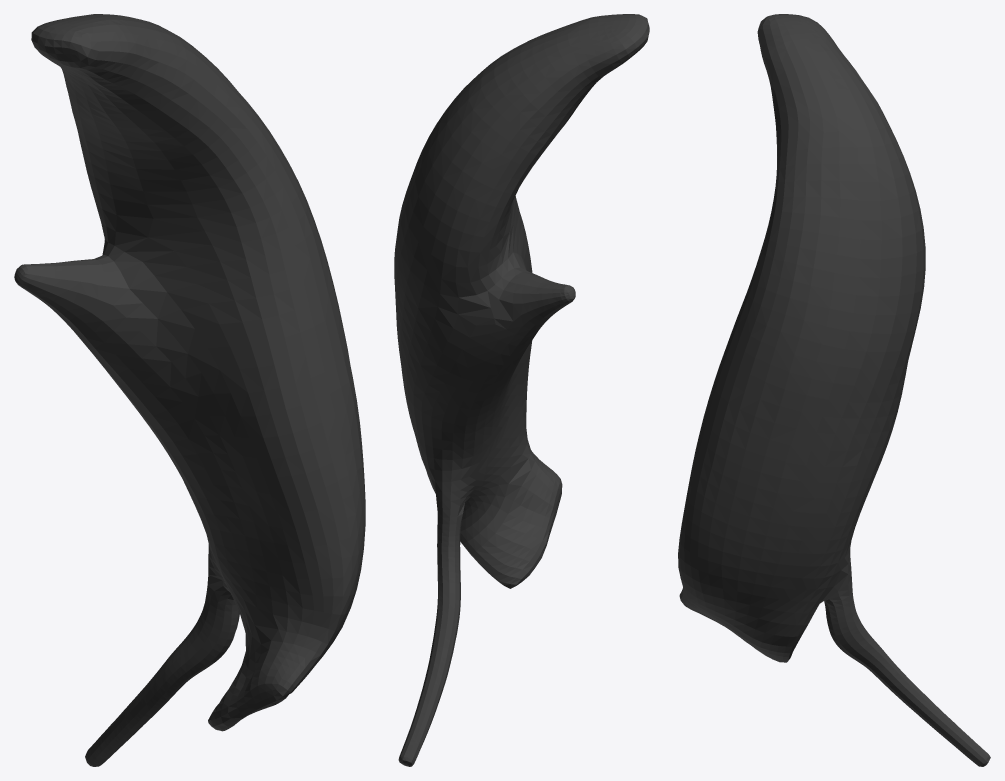
File: Biceps.glb
The picture shows the model from 3 angles, left to right: view 1: azimuth 30°, elevation 25°; view 2: azimuth 150°, elevation 25°; view 3: azimuth 270°, elevation 25°; orthographic projection. The views are drawn at different scales.
Visible parts, largest first — view 1: Biceps; view 2: Biceps; view 3: Biceps.
Boxes of the visible parts, x1,y1,x2,y2 form: Biceps: [14, 14, 365, 766]; Biceps: [394, 14, 649, 766]; Biceps: [678, 14, 990, 766].
Size of the model in its own units: 51.77 by 146 by 60.06.
1 material, 1 textured.
